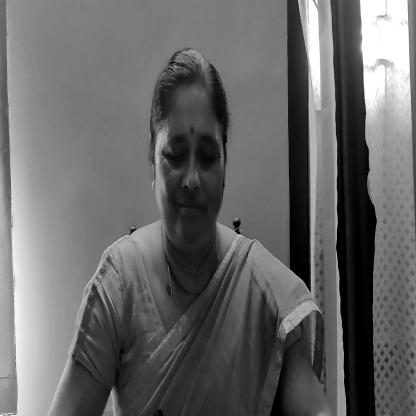Normal: (151, 75, 228, 259)
